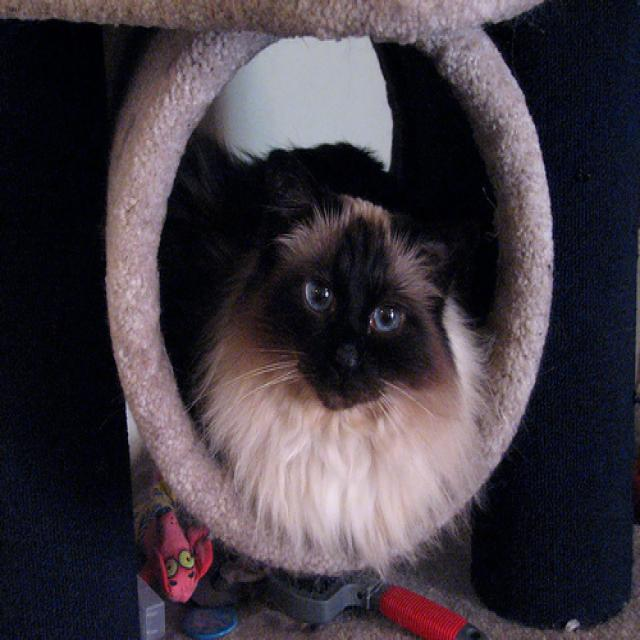Birman: (243, 184, 474, 547)
